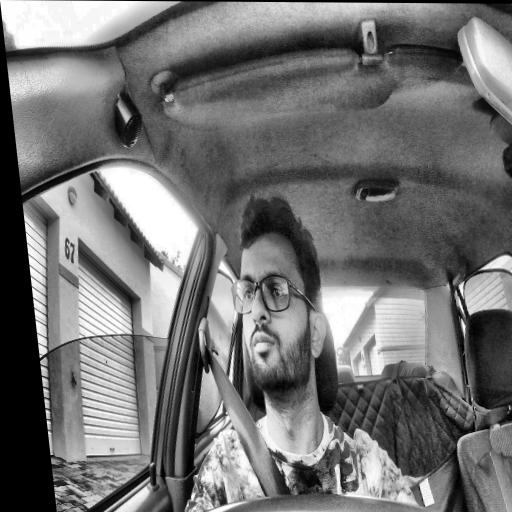awake: (220, 194, 334, 397)
